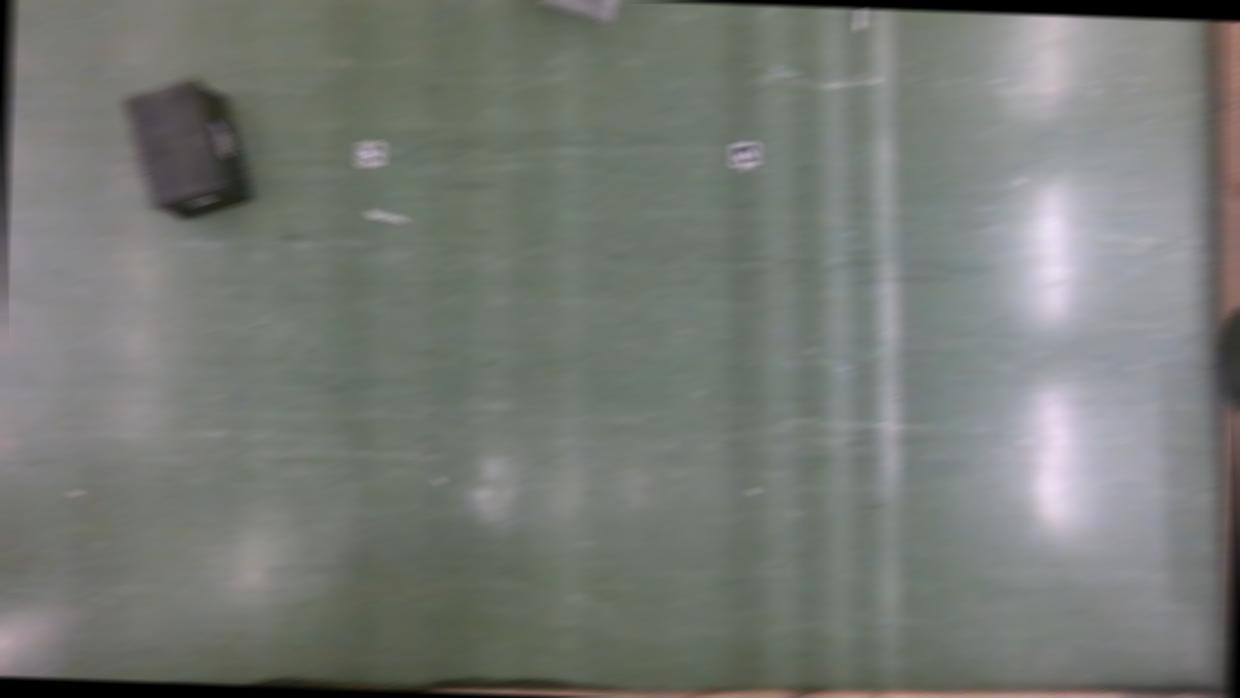rako: (119, 78, 258, 224)
